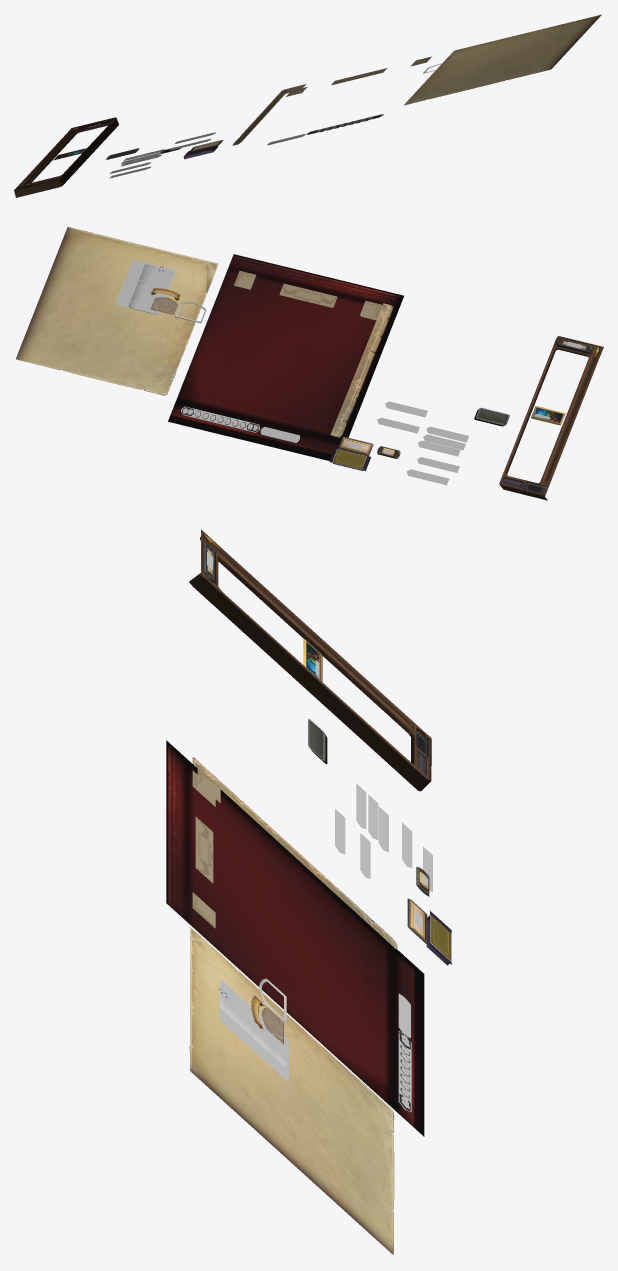
Rendered from wodeshouchang.FBX.
3 renders of one model, top to bottom at view 1: azimuth 30°, elevation 25°; view 2: azimuth 150°, elevation 25°; view 3: azimuth 270°, elevation 25°, orthographic. The views are drawn at different scales.
Parts seen in each view (by area): view 1: 19bd1420.obj, 19bfe350.obj, 19bf2618.obj; view 2: 19bad040.obj, 19bd1420.obj, 19bfe350.obj, 19c72870.obj, 19bf4120.obj, 19bfc848.obj, 19c7caa0.obj, 19c38830.obj, 19bab538.obj, 1f0a4890.obj, 1f020998.obj, 19bf5c28.obj; view 3: 19bad040.obj, 19bd1420.obj, 19bfe350.obj, 19c72870.obj, 19bf4120.obj, 19bfc848.obj, 19c7caa0.obj.
Boxes of the visible parts, x1,y1,x2,y2 form: 19bd1420.obj: (404, 14, 601, 105); 19bfe350.obj: (14, 117, 118, 197); 19bf2618.obj: (232, 90, 287, 145); 19bad040.obj: (168, 254, 403, 460); 19bd1420.obj: (16, 227, 218, 395); 19bfe350.obj: (499, 336, 603, 500); 19c72870.obj: (128, 263, 175, 314); 19bf4120.obj: (330, 303, 390, 436); 19bfc848.obj: (543, 347, 600, 484); 19c7caa0.obj: (279, 283, 337, 307); 19c38830.obj: (116, 260, 146, 308); 19bab538.obj: (181, 406, 260, 432); 1f0a4890.obj: (474, 407, 509, 426); 1f020998.obj: (332, 449, 366, 469); 19bf5c28.obj: (332, 305, 392, 437); 19bad040.obj: (166, 740, 424, 1136); 19bd1420.obj: (189, 927, 394, 1254); 19bfe350.obj: (189, 529, 431, 791); 19c72870.obj: (219, 979, 288, 1068); 19bf4120.obj: (194, 758, 397, 949); 19bfc848.obj: (203, 534, 414, 728); 19c7caa0.obj: (195, 816, 213, 883).
Size of the model in its own units: 0.1611 by 0.0357 by 0.0375.
